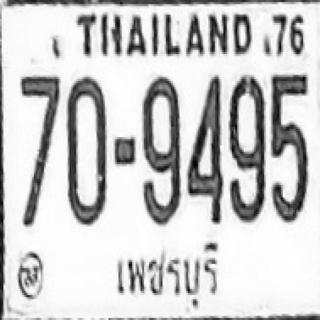N00: (67, 76, 108, 223), (228, 74, 264, 165)
N04: (186, 74, 223, 223)
N05: (270, 75, 309, 222)
N07: (19, 75, 60, 170)
N09: (141, 77, 180, 224), (229, 79, 266, 222), (142, 92, 181, 225), (229, 94, 266, 222)
P44: (108, 237, 227, 312)
